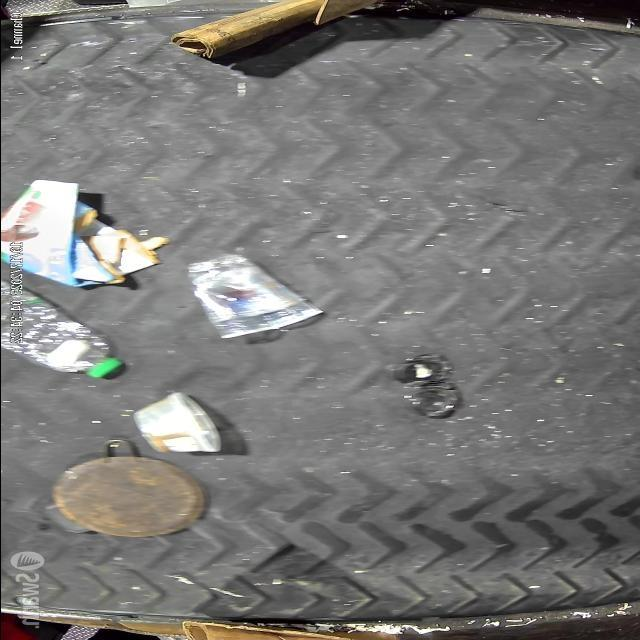plastic_bottle: (3, 288, 124, 374)
